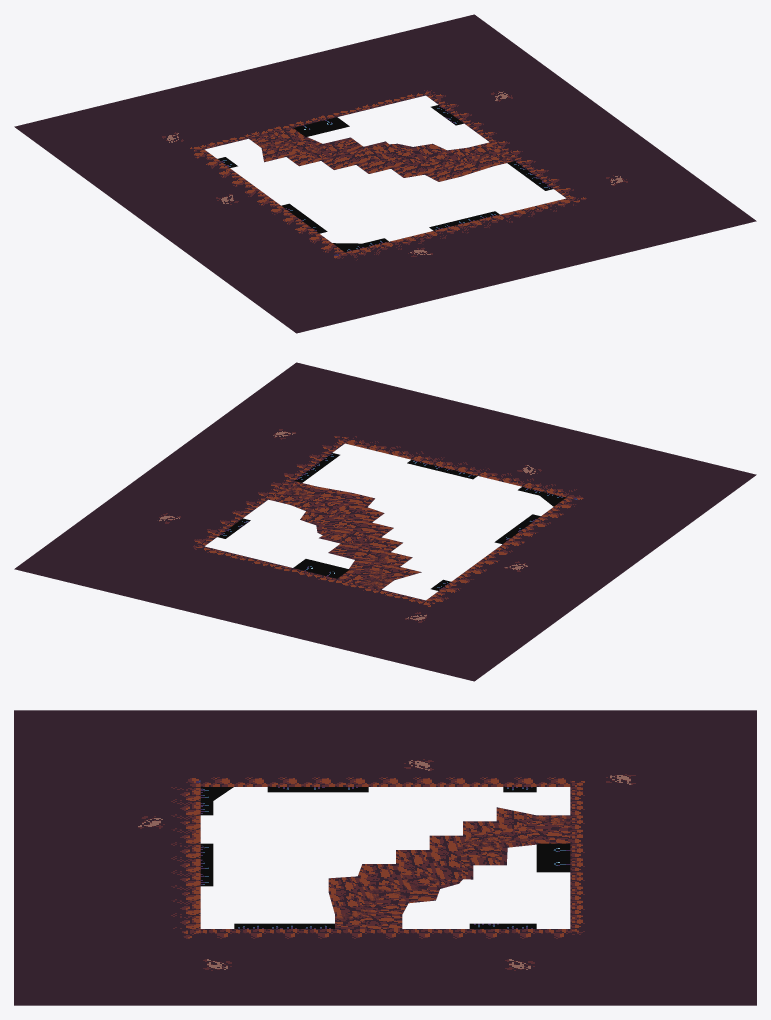
Rendered from Plane 2 with pillar.glb.
3 renders of one model, top to bottom at view 1: azimuth 30°, elevation 25°; view 2: azimuth 150°, elevation 25°; view 3: azimuth 270°, elevation 25°, orthographic. The views are drawn at different scales.
Visible parts, largest first — view 1: Basic, Advanced2, Advanced1; view 2: Basic, Advanced2, Advanced1; view 3: Basic, Advanced2, Advanced1.
Boxes of the visible parts, bbox=[...] form: Basic: bbox=[14, 14, 756, 333]; Advanced2: bbox=[249, 133, 507, 181]; Advanced1: bbox=[251, 128, 514, 164]; Basic: bbox=[14, 362, 756, 681]; Advanced2: bbox=[284, 484, 421, 589]; Advanced1: bbox=[269, 481, 393, 588]; Basic: bbox=[14, 710, 756, 1005]; Advanced2: bbox=[328, 807, 570, 921]; Advanced1: bbox=[335, 815, 570, 928].
Bounding box in the file's own units: 10.4 × 0 × 11.05.
Materials: 1 (1 with a texture image).
